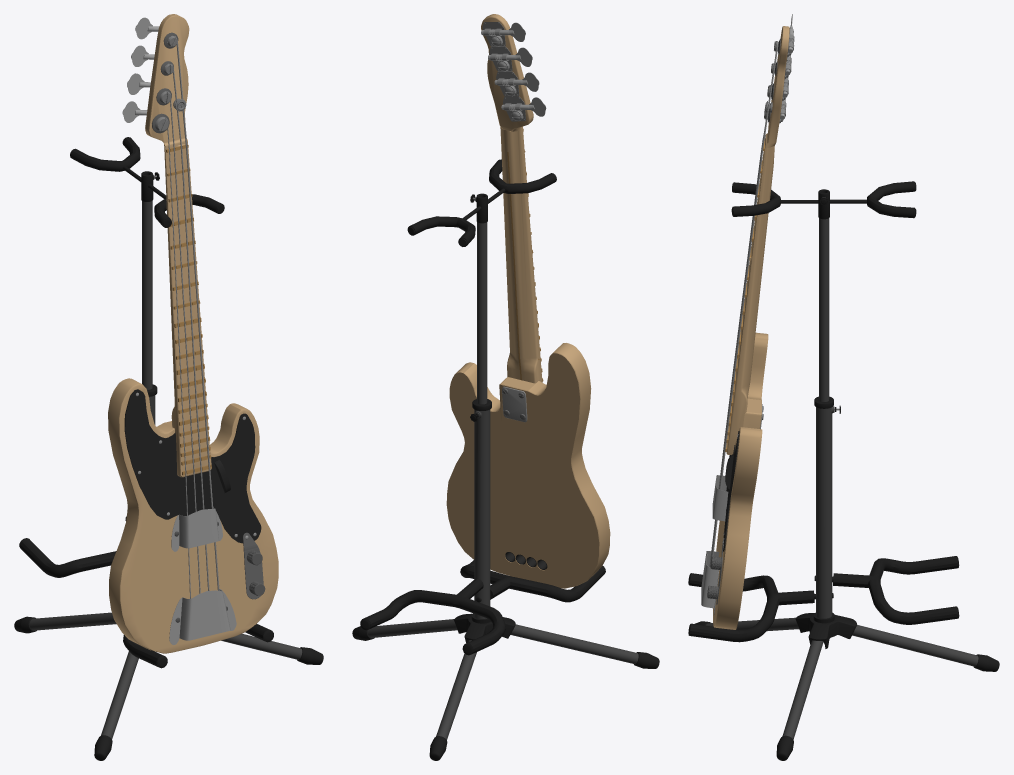
File: bass_precision.glb
3 renders of one model, left to right at view 1: azimuth 30°, elevation 25°; view 2: azimuth 150°, elevation 25°; view 3: azimuth 270°, elevation 25°, orthographic. The views are drawn at different scales.
Parts seen in each view (by area): view 1: bass_precision; view 2: bass_precision; view 3: bass_precision.
Boxes of the visible parts, <box> form: bass_precision: <box>14,14,323,760</box>; bass_precision: <box>352,14,659,760</box>; bass_precision: <box>688,14,999,760</box>.
Bounding box in the file's own units: 0.5424 × 1.3 × 0.5517.
